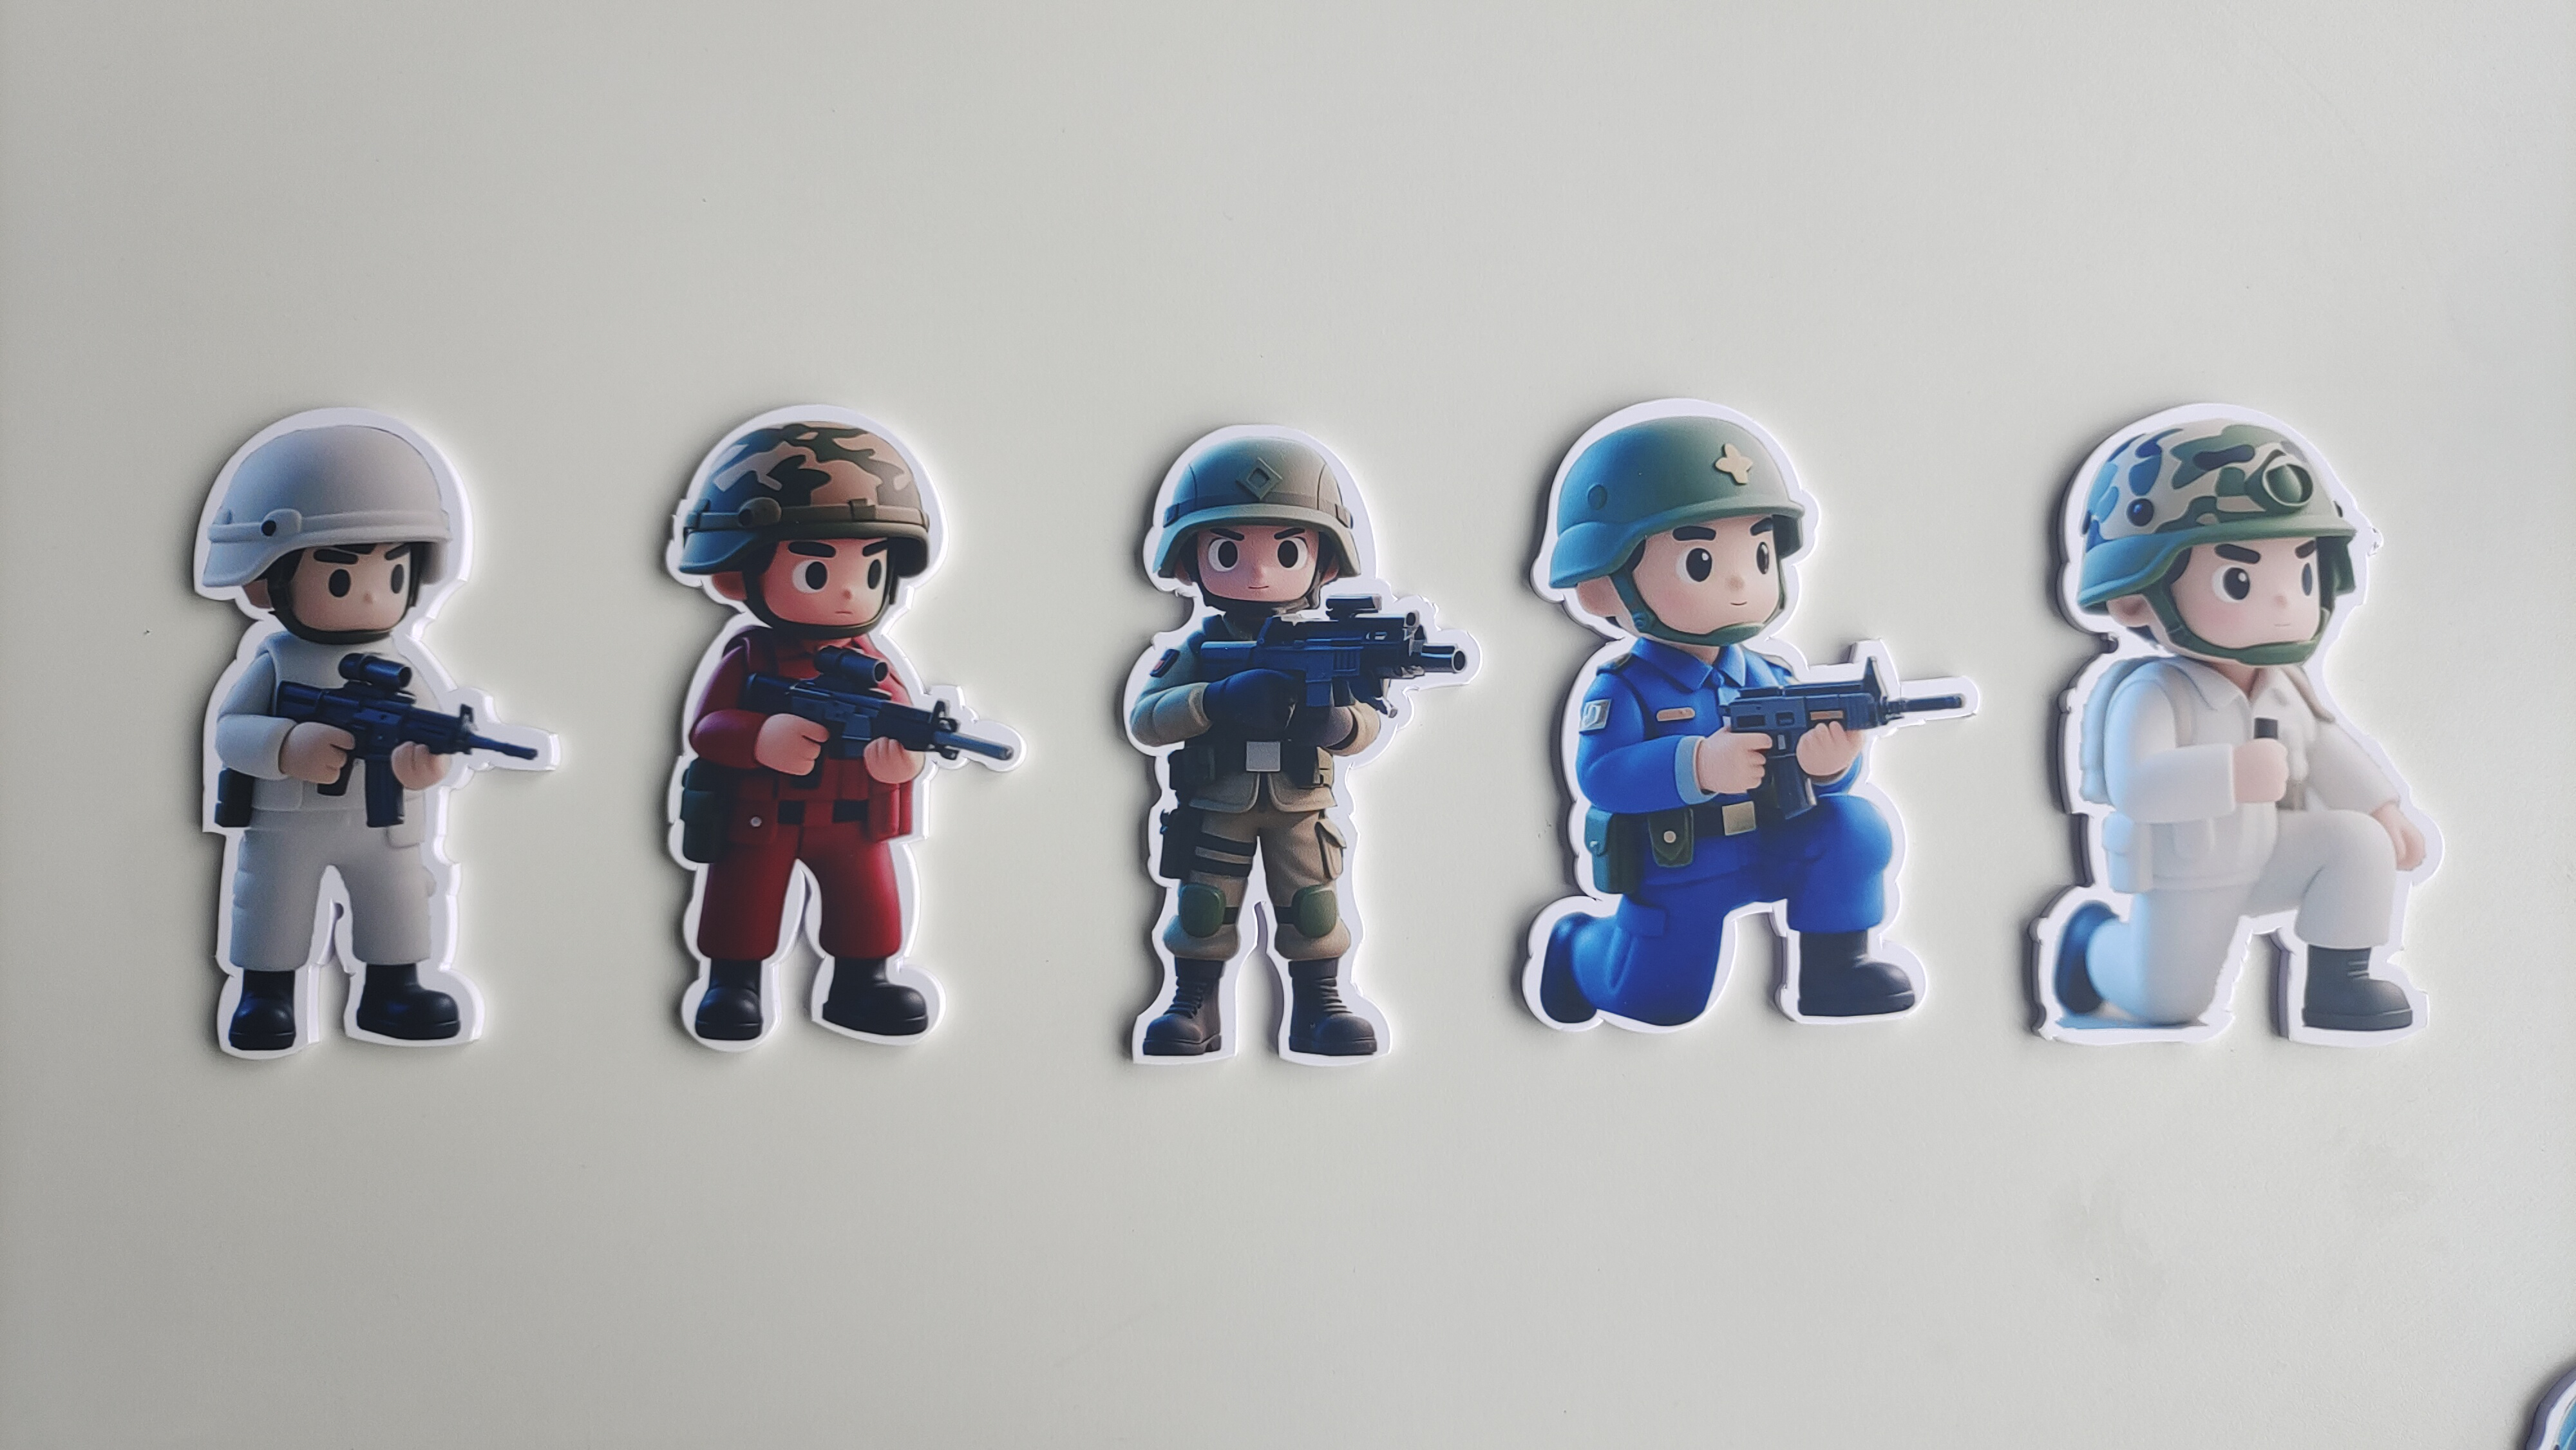enemy1: (663, 635, 961, 1054)
enemy2: (1504, 651, 1960, 1042)
friend: (1109, 615, 1414, 1084)
hostage: (2013, 663, 2450, 1061), (191, 631, 497, 1057)
